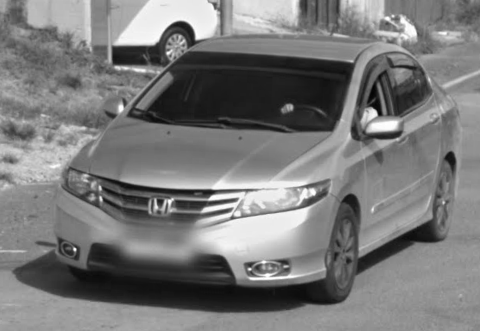car: (46, 23, 468, 304)
